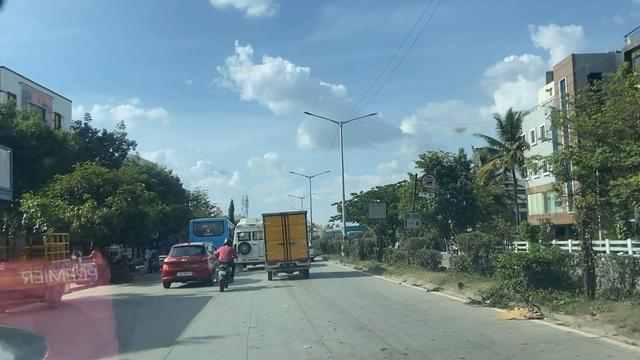HMV: (255, 215, 310, 277), (233, 221, 272, 267)
LMV: (172, 242, 217, 288), (217, 240, 233, 284)
